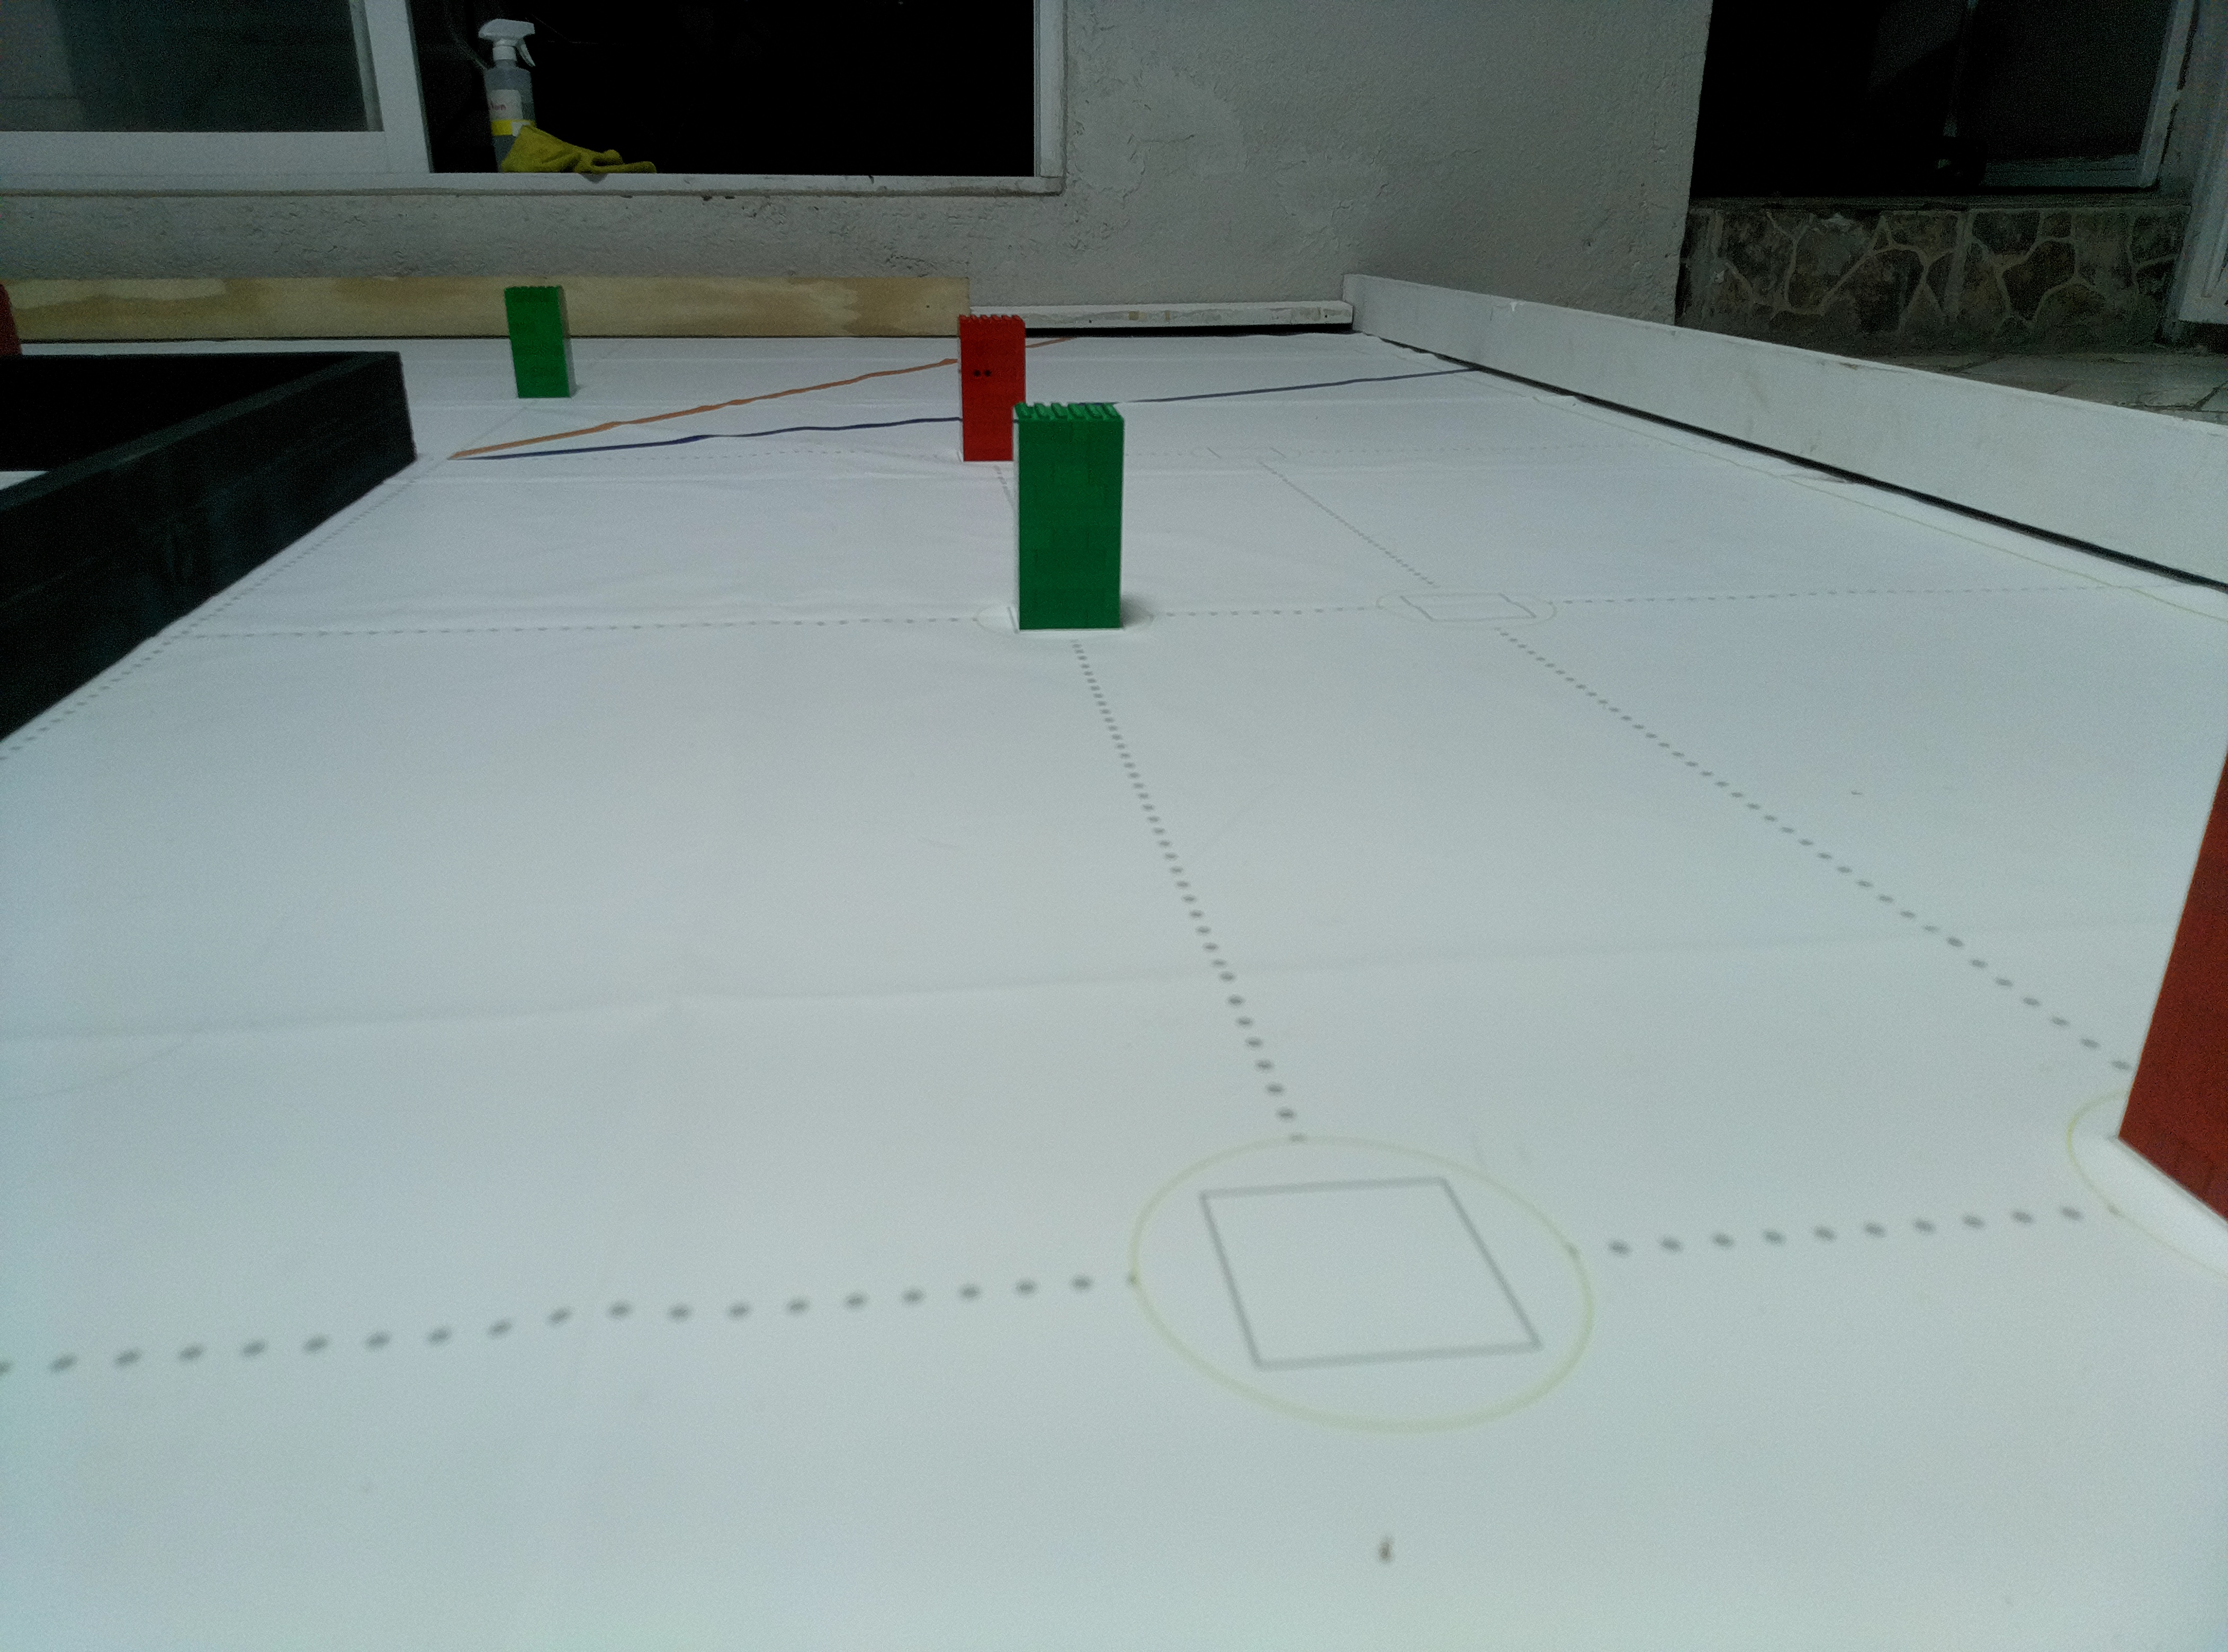greenbox: (1010, 397, 1124, 633), (501, 283, 578, 399)
redbox: (2108, 750, 2228, 1227), (956, 312, 1029, 463)
